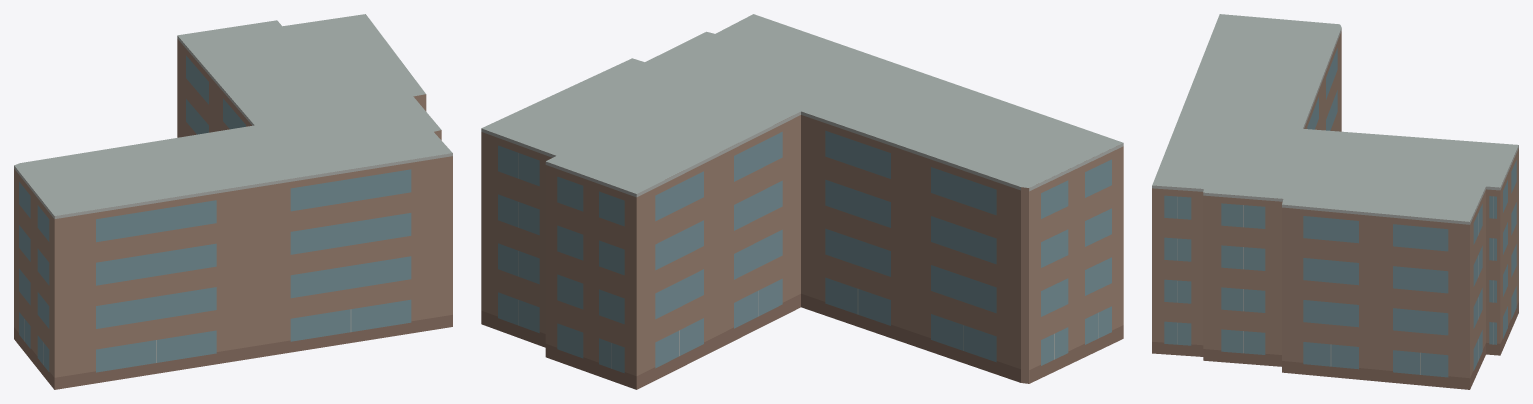
Rendered from survey-upis-32896119.glb.
3 views of the same model, side by side, from view 1: azimuth 30°, elevation 25°; view 2: azimuth 150°, elevation 25°; view 3: azimuth 270°, elevation 25° (orthographic). The views are drawn at different scales.
Visible parts, largest first — view 1: survey-upis-32896119.tmp; view 2: survey-upis-32896119.tmp; view 3: survey-upis-32896119.tmp.
Part boxes in pixels (x1=…): survey-upis-32896119.tmp: x1=14, y1=14, x2=452, y2=389; survey-upis-32896119.tmp: x1=481, y1=14, x2=1123, y2=389; survey-upis-32896119.tmp: x1=1152, y1=14, x2=1518, y2=389.
Bounding box in the file's own units: 37.43 × 14.1 × 27.9.
